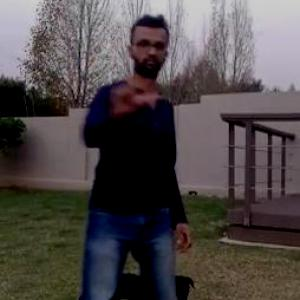land_hand: (104, 54, 159, 115)
